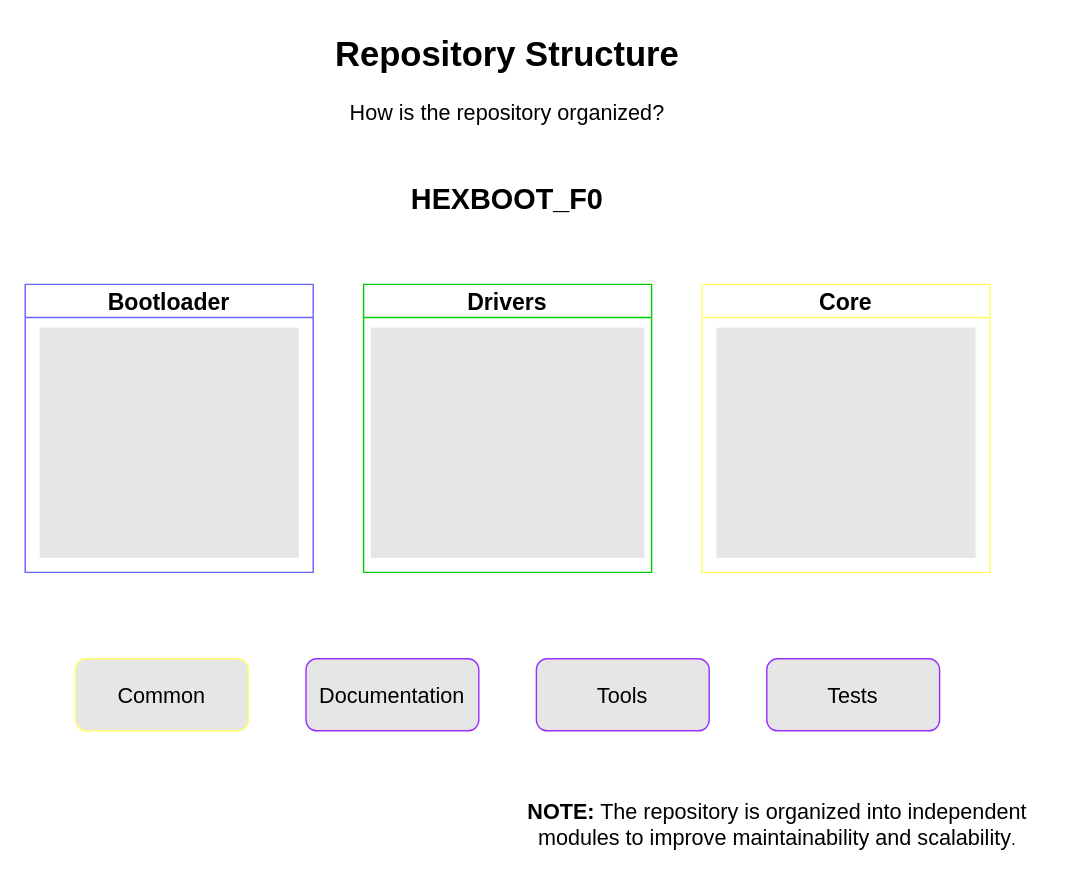
This 1073x874 diagram has some shape labels left out. Here are the shapes that lost their labels. From the top down, the centre of each, then its label:
At pixel 168 442: "Boot Update Receiver Slot Metadata Common".
At pixel 507 442: "GPIO UART FLASH DMA RCC SYSTICK".
At pixel 845 442: "Inc Src Startup Linker Script".
